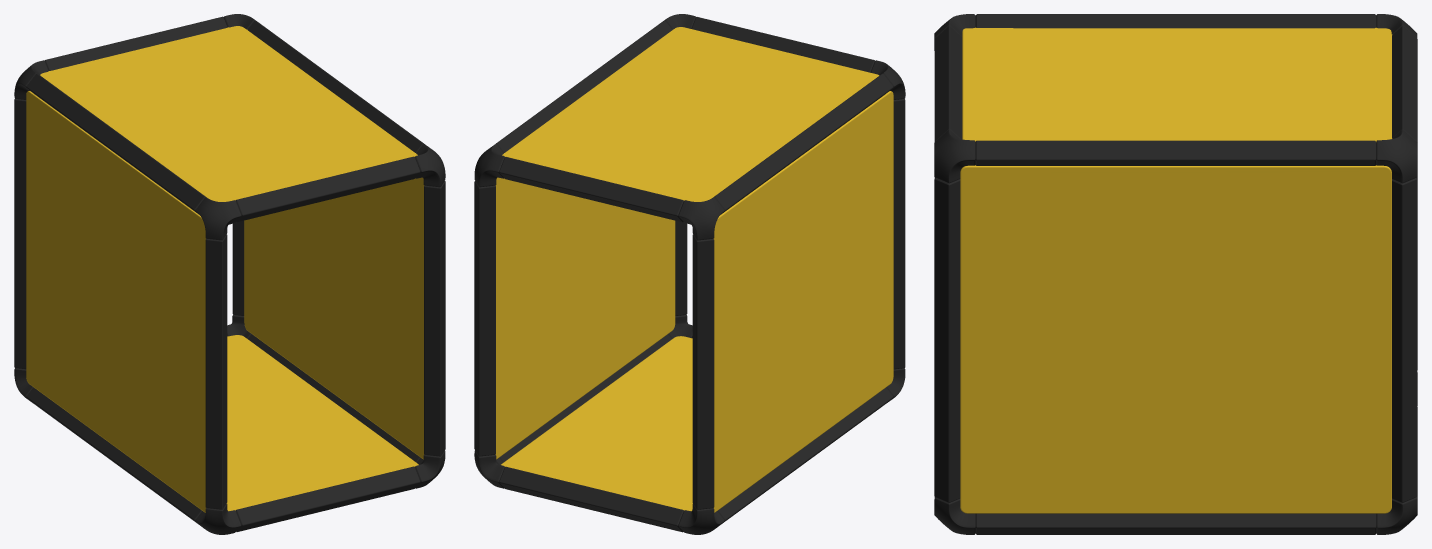
3 renders of one model, left to right at view 1: azimuth 30°, elevation 25°; view 2: azimuth 150°, elevation 25°; view 3: azimuth 270°, elevation 25°, orthographic. The views are drawn at different scales.
Parts seen in each view (by area): view 1: 229x374x329; view 2: 229x374x329; view 3: 229x374x329.
Boxes of the visible parts, x1,y1,x2,y2 form: 229x374x329: (14,14,445,534); 229x374x329: (474,14,905,534); 229x374x329: (934,14,1417,534).
Size of the model in its own units: 0.3067 by 0.4066 by 0.4513.
